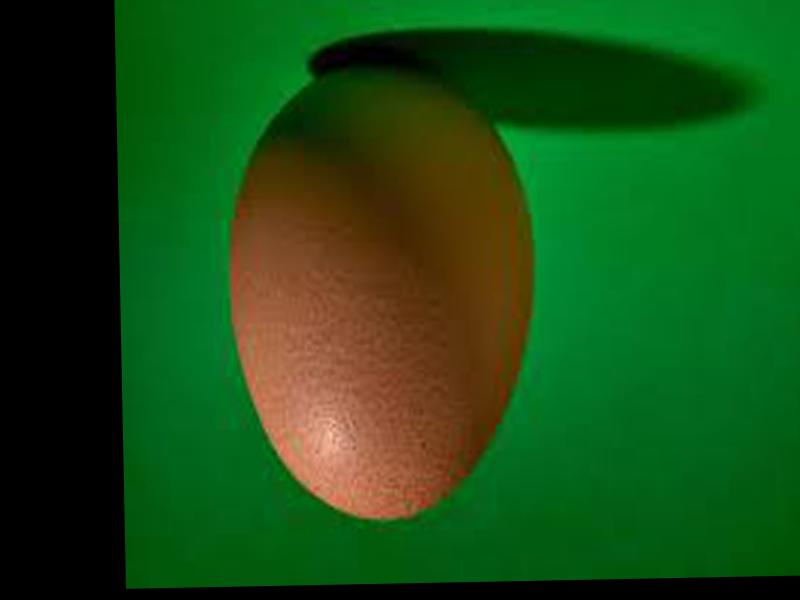Eggs: (223, 58, 538, 520)
